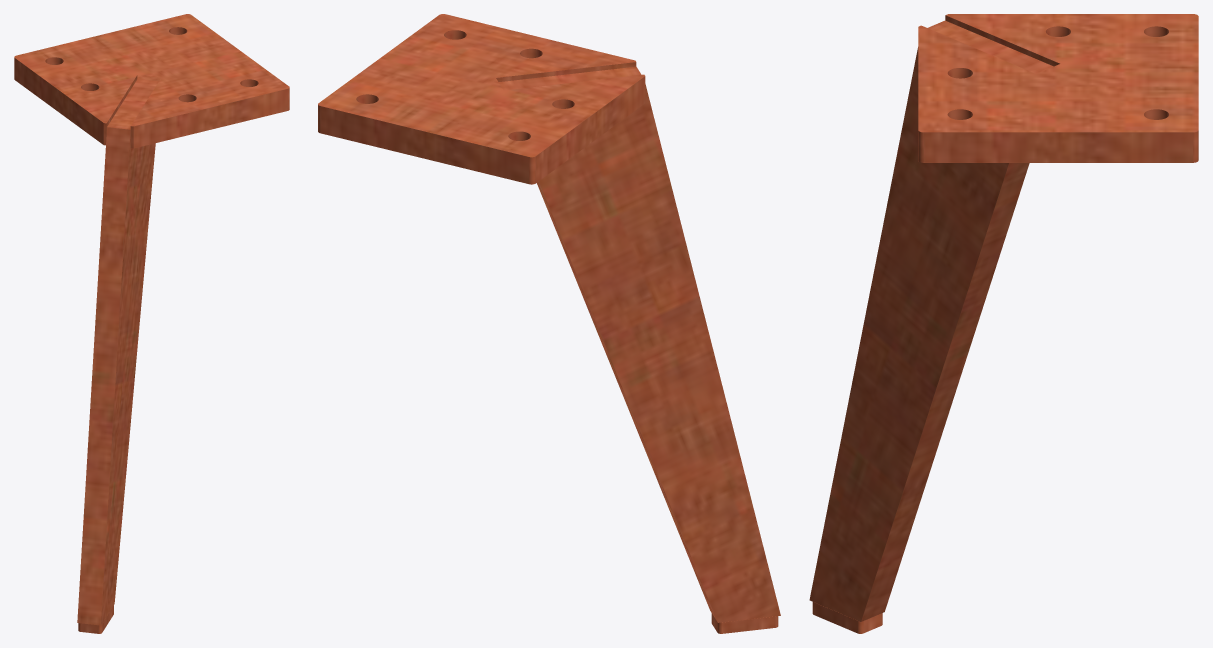
File: new_FEET.fbx
3 renders of one model, left to right at view 1: azimuth 30°, elevation 25°; view 2: azimuth 150°, elevation 25°; view 3: azimuth 270°, elevation 25°, orthographic. The views are drawn at different scales.
Visible parts, largest first — view 1: NURBS_Fläche_3, NURBS_Fläche_33, NURBS_Fläche_41, NURBS_Fläche_8, NURBS_Fläche_13, NURBS_Fläche_40; view 2: NURBS_Fläche_30, NURBS_Fläche_3, NURBS_Fläche_4, NURBS_Fläche_13, NURBS_Fläche_31, NURBS_Fläche_40, NURBS_Fläche_10, NURBS_Fläche_46; view 3: NURBS_Fläche_41, NURBS_Fläche_3, NURBS_Fläche_31, NURBS_Fläche_6, NURBS_Fläche_40, NURBS_Fläche_11, NURBS_Fläche_50.
Part boxes in pixels (bbox=[...]): NURBS_Fläche_3: bbox=[14, 14, 289, 126]; NURBS_Fläche_33: bbox=[77, 127, 130, 625]; NURBS_Fläche_41: bbox=[101, 133, 155, 624]; NURBS_Fläche_8: bbox=[133, 89, 287, 148]; NURBS_Fläche_13: bbox=[14, 58, 103, 144]; NURBS_Fläche_40: bbox=[107, 79, 158, 129]; NURBS_Fläche_30: bbox=[539, 84, 780, 622]; NURBS_Fläche_3: bbox=[318, 14, 644, 157]; NURBS_Fläche_4: bbox=[320, 106, 528, 183]; NURBS_Fläche_13: bbox=[536, 76, 645, 182]; NURBS_Fläche_31: bbox=[537, 181, 717, 621]; NURBS_Fläche_40: bbox=[499, 66, 641, 90]; NURBS_Fläche_10: bbox=[496, 62, 636, 81]; NURBS_Fläche_46: bbox=[722, 616, 775, 633]; NURBS_Fläche_41: bbox=[809, 47, 1008, 621]; NURBS_Fläche_3: bbox=[918, 14, 1198, 132]; NURBS_Fläche_31: bbox=[861, 163, 1029, 621]; NURBS_Fläche_6: bbox=[924, 132, 1192, 162]; NURBS_Fläche_40: bbox=[928, 20, 1053, 73]; NURBS_Fläche_11: bbox=[945, 15, 1059, 66]; NURBS_Fläche_50: bbox=[814, 602, 857, 633].
Bounding box in the file's own units: 139 × 250 × 139.
1 material, 1 textured.
